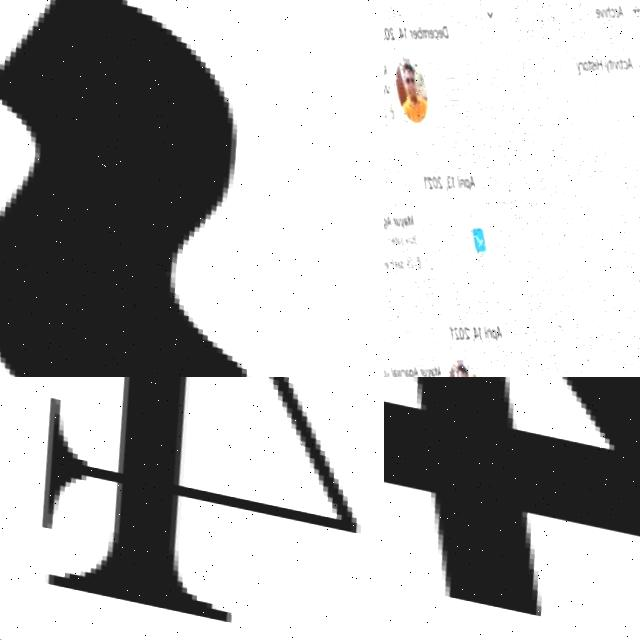0: (424, 168, 435, 185), (449, 319, 460, 336), (384, 19, 389, 36)
1: (399, 19, 408, 35), (416, 170, 425, 185), (440, 320, 449, 335), (444, 169, 453, 183), (469, 319, 478, 333)
2: (429, 168, 440, 184), (419, 169, 430, 185), (444, 319, 455, 335), (454, 319, 465, 334), (384, 20, 394, 36), (402, 252, 410, 265)
3: (438, 168, 449, 184)
4: (393, 19, 404, 36), (463, 318, 474, 335)
9: (398, 252, 406, 264)
S: (0, 0, 308, 377)
